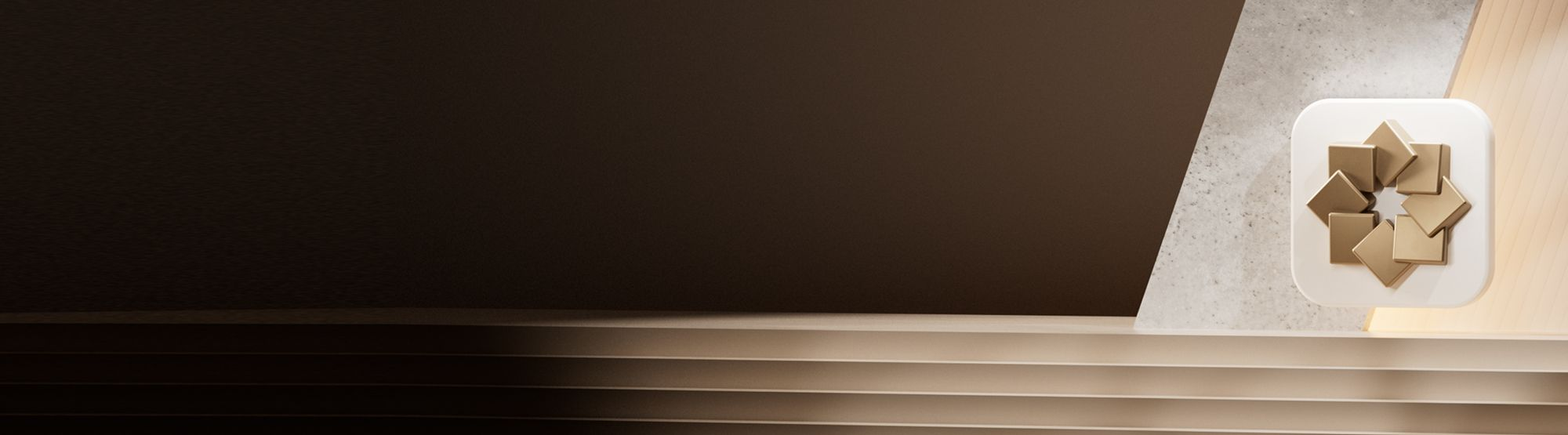Pasha Bank: (1303, 112, 1476, 292)
